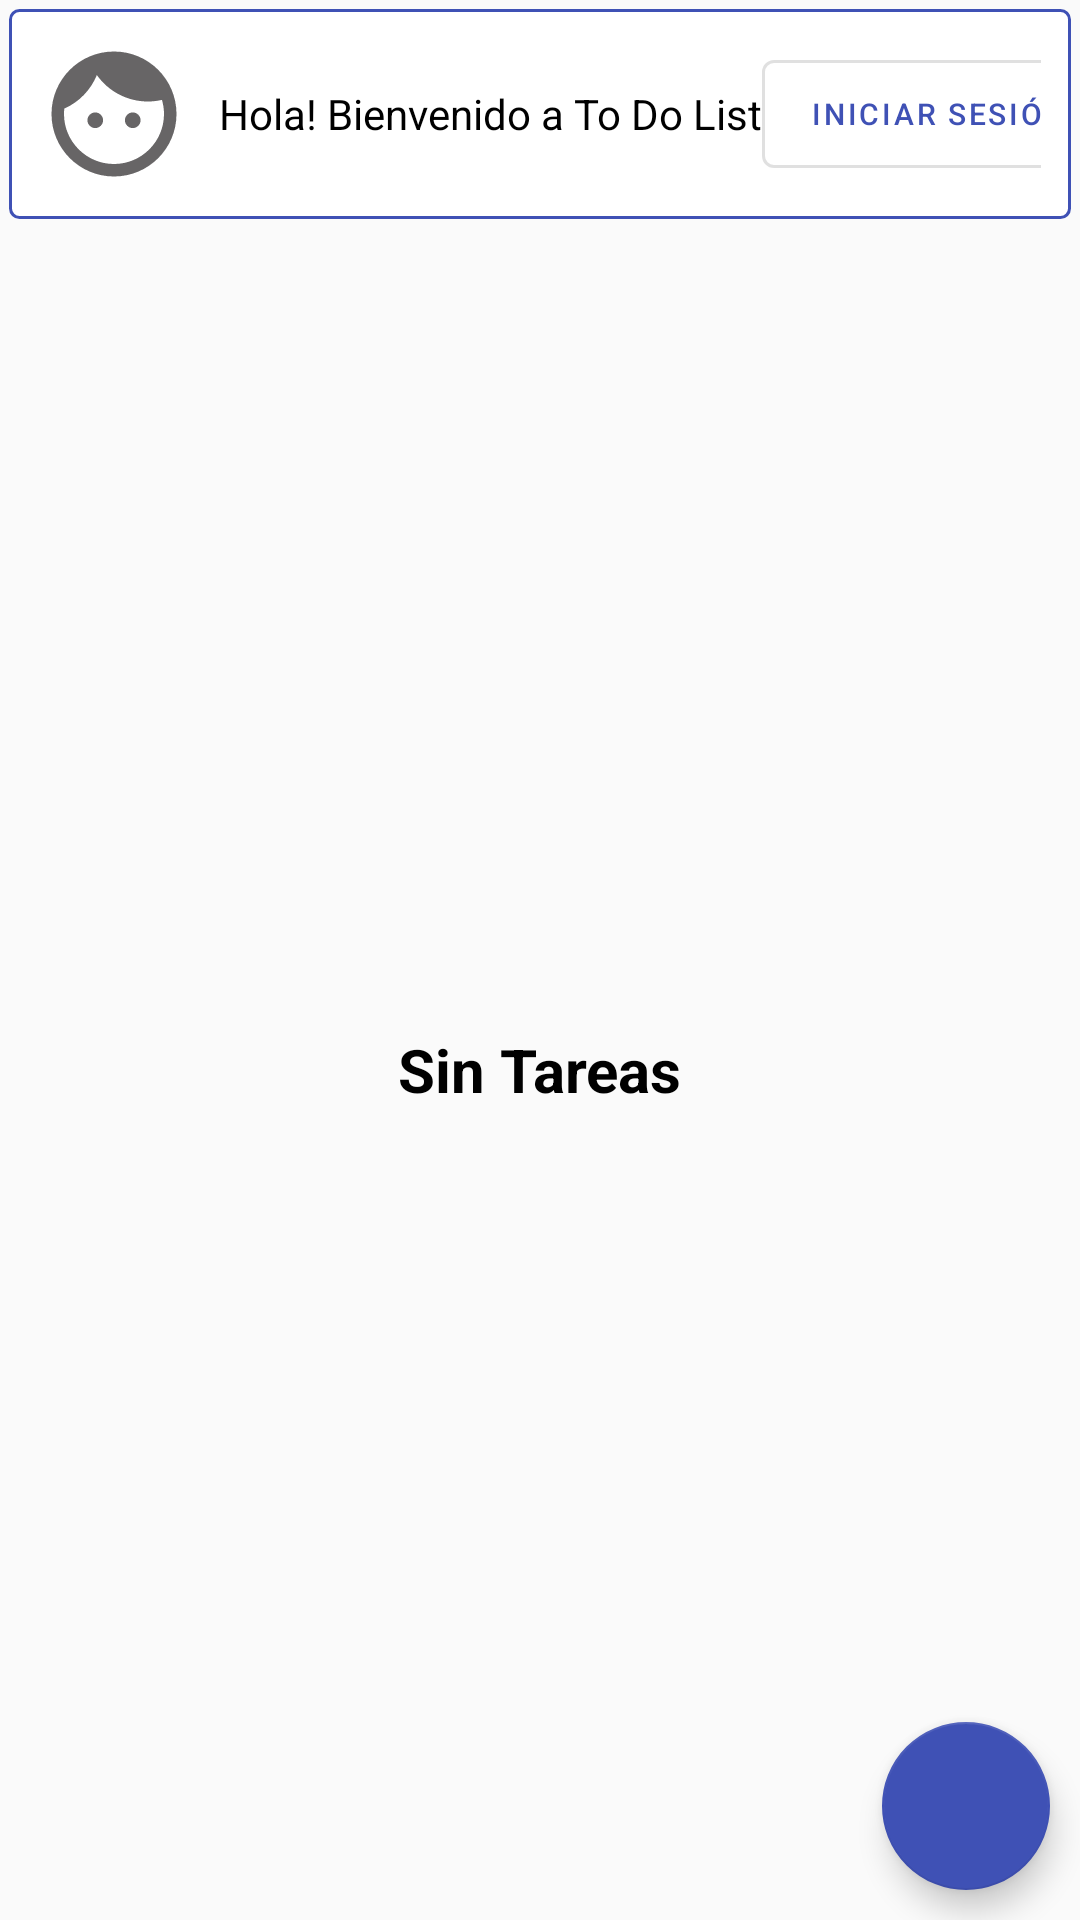

Screen size 1080*1920. Icon name, then its center in pixels as point (x, y):
user: point (114, 114)
